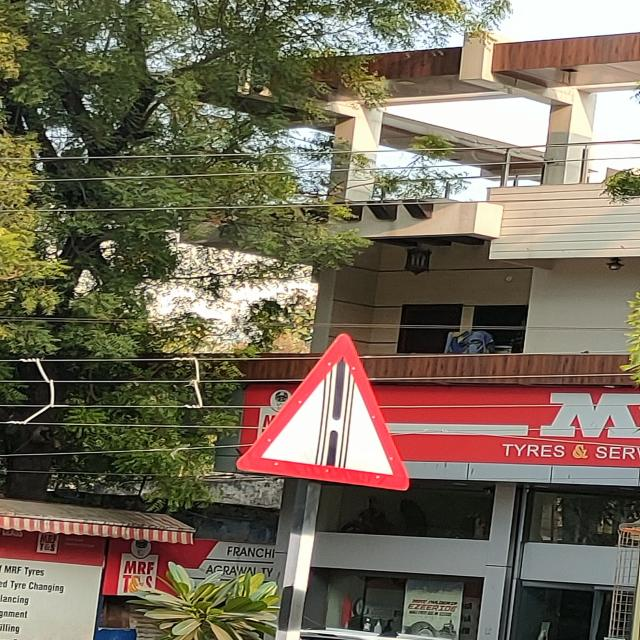ferry: (239, 333, 417, 491)
